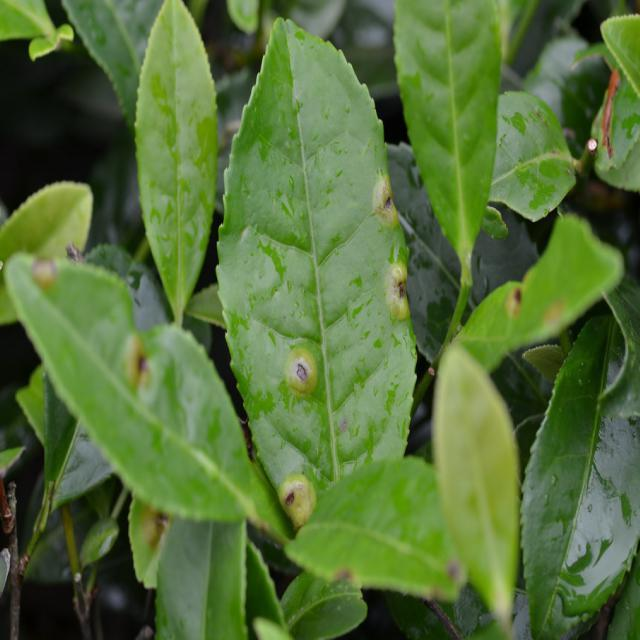Tea cake: (277, 473, 326, 524), (368, 172, 407, 229), (284, 347, 322, 391), (389, 259, 415, 320), (32, 253, 57, 288)
